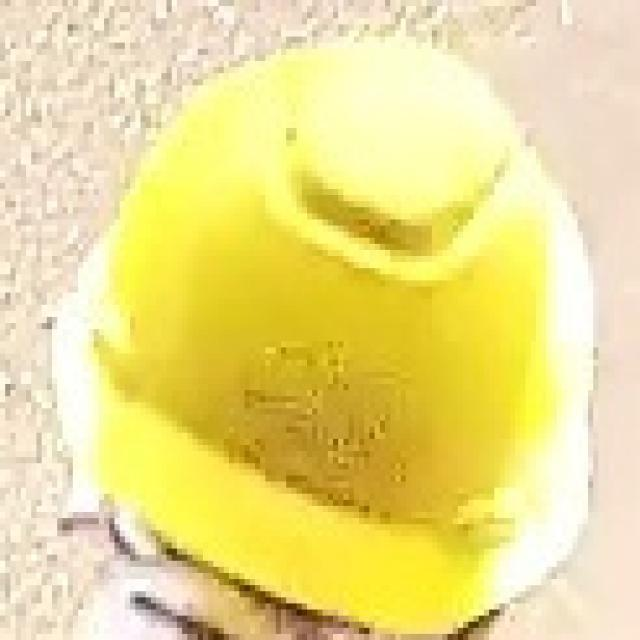yellow helmet: (71, 19, 613, 631)
